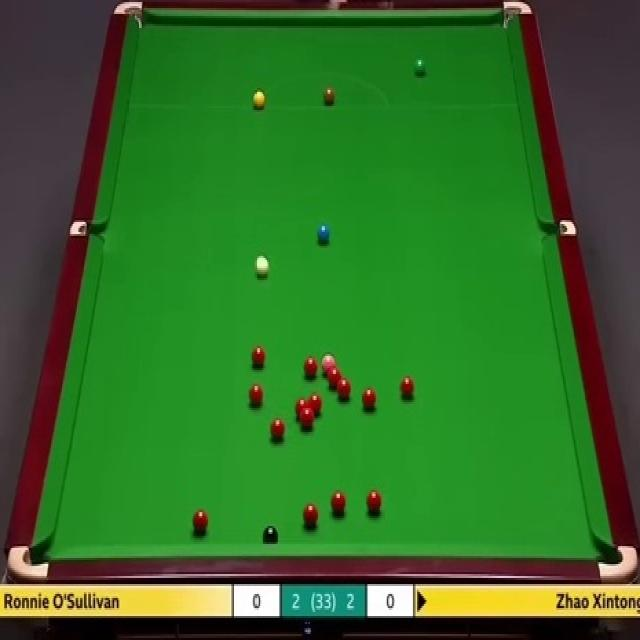black-ball: (264, 525, 282, 544)
blue-ball: (316, 225, 331, 242)
brown-ball: (323, 88, 336, 110)
green-ball: (415, 58, 425, 73)
pink-ball: (322, 354, 336, 374)
red-ball: (307, 393, 324, 419), (302, 504, 320, 528), (331, 488, 346, 516), (191, 509, 208, 533), (402, 375, 416, 400), (252, 346, 265, 370), (300, 408, 314, 430), (368, 491, 382, 513), (272, 419, 285, 442), (250, 384, 262, 408), (337, 380, 350, 402), (295, 399, 309, 418), (327, 367, 341, 386), (362, 390, 376, 408), (303, 357, 316, 376)
white-ball: (254, 257, 270, 277)
yellow-ball: (253, 90, 265, 110)
